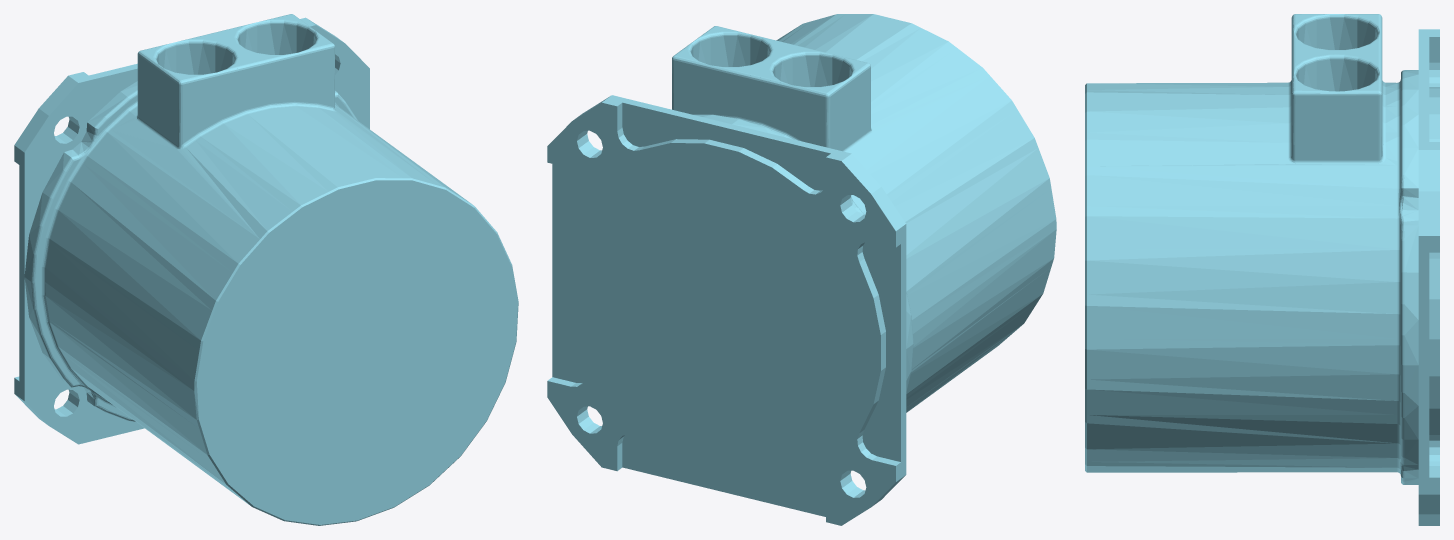
3 views of the same model, side by side, from view 1: azimuth 30°, elevation 25°; view 2: azimuth 150°, elevation 25°; view 3: azimuth 270°, elevation 25° (orthographic). The views are drawn at different scales.
Visible parts, largest first — view 1: link0; view 2: link0; view 3: link0.
Boxes of the visible parts, <box> form: link0: <box>14,14,518,525</box>; link0: <box>547,14,1056,525</box>; link0: <box>1085,14,1439,525</box>.
Bounding box in the file's own units: 0.234 × 0.257 × 0.2.
